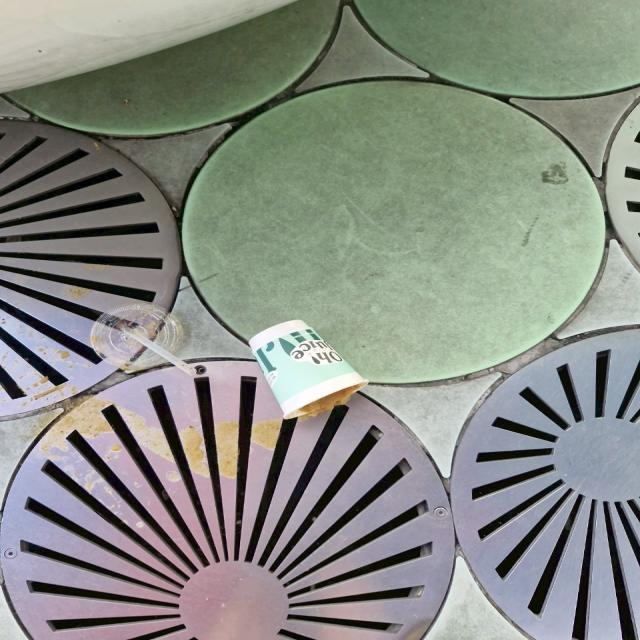plastic cup: (242, 320, 361, 418)
